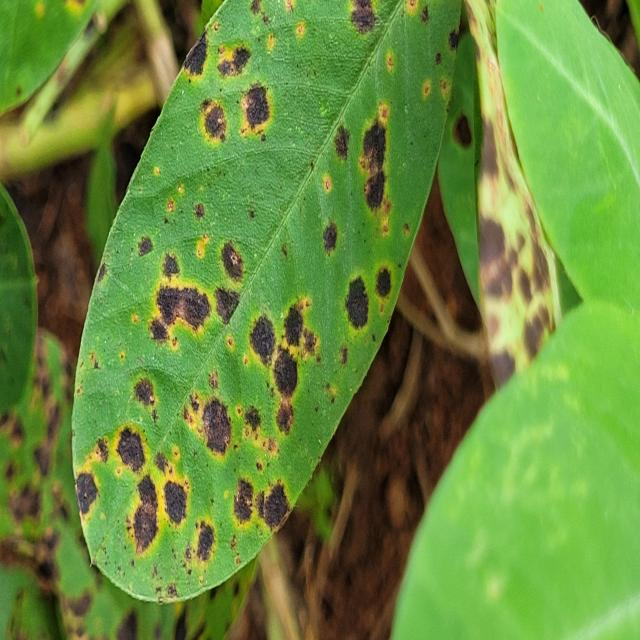Ground nut_tikka leaf spot: (77, 0, 460, 600)
